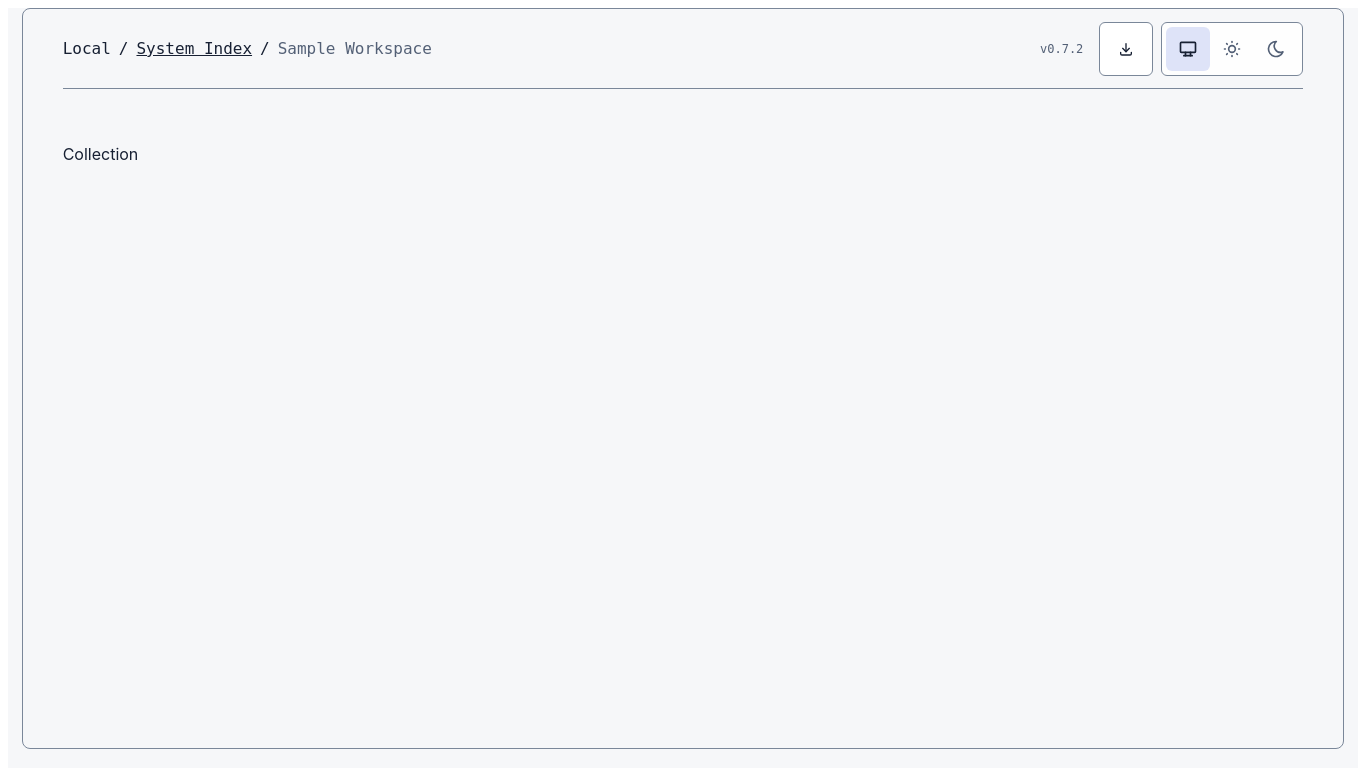
Scenario: AppShell › offers both export formats in the modern shared frame
Click the button named "Export" at (1126, 48), box [1099,22,1153,76]
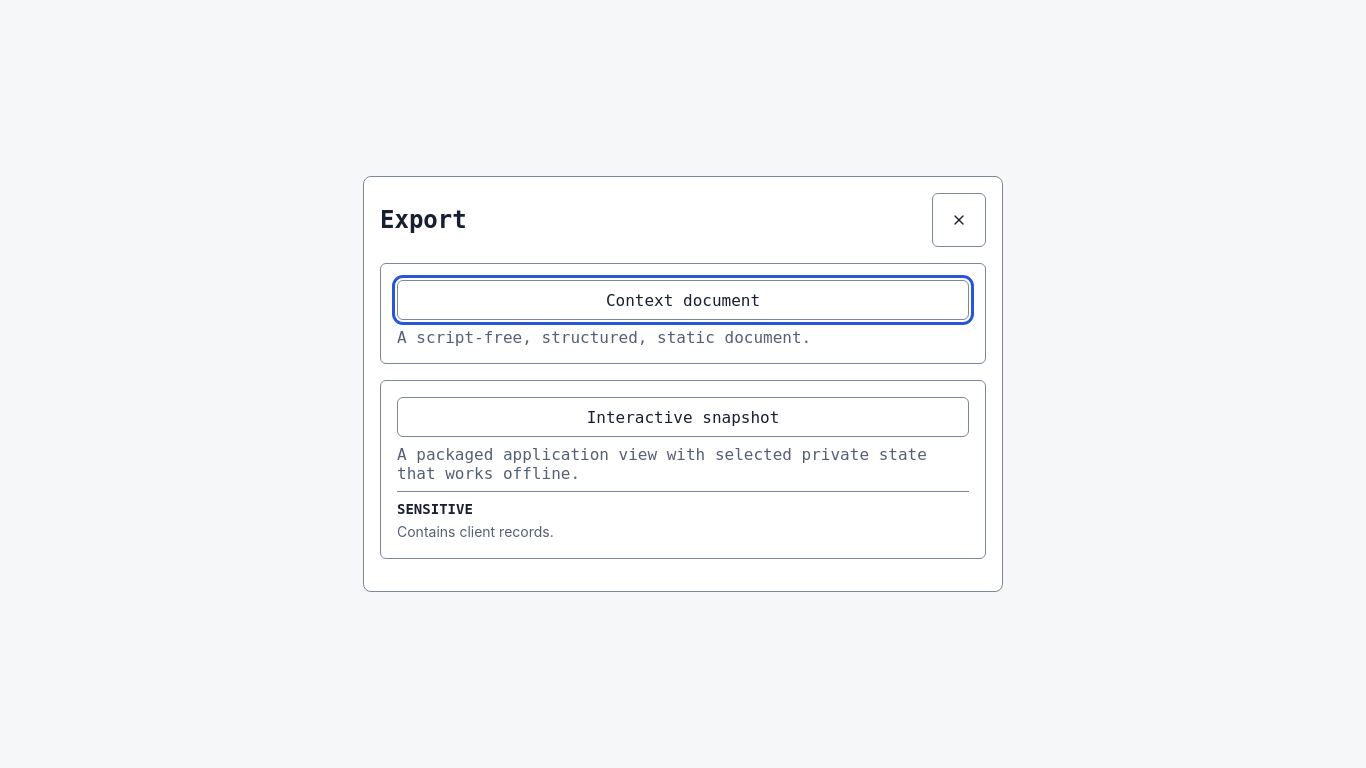
expect the button "Context document" is enabled: met, box [397,280,969,320]
expect the button "Interactive snapshot" is enabled: met, box [397,397,969,437]
expect the text "Contains client records." is shown: met, box [397,523,554,540]
